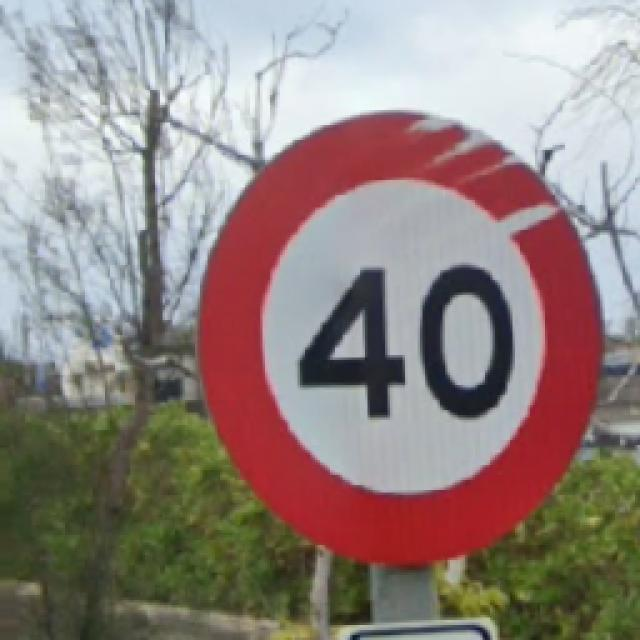Speed Limit -40-: (200, 112, 600, 570)
